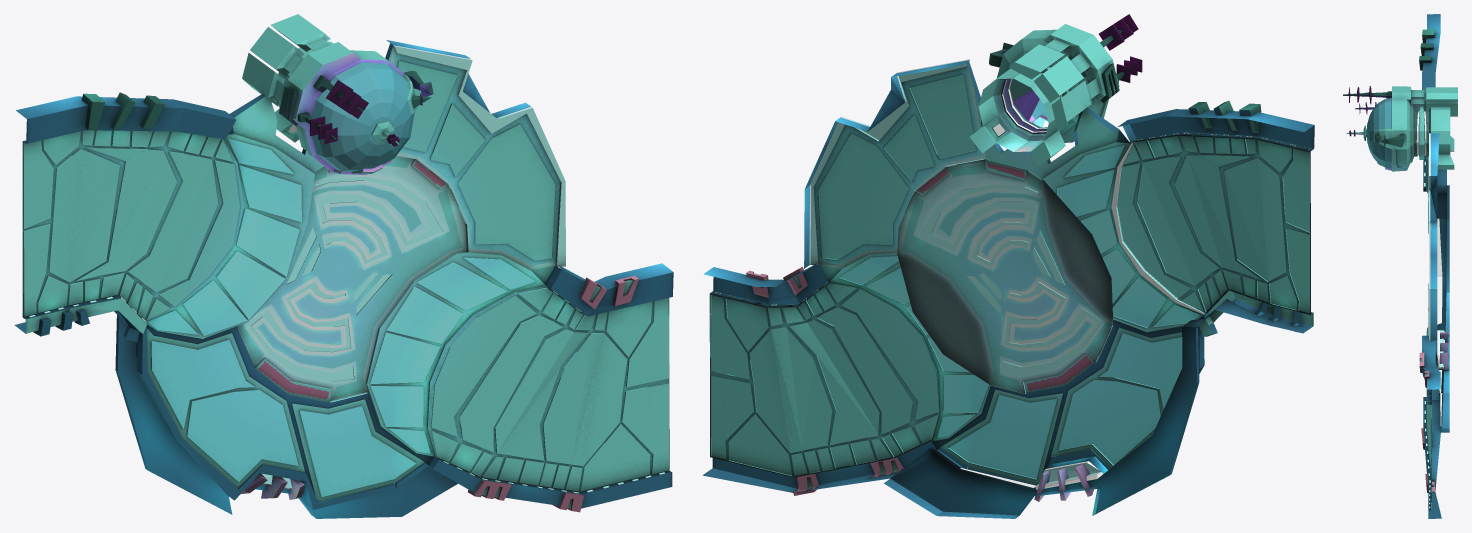
The model's file is ThugShip_Tile_Bay_04_M.fbx.
3 renders of one model, left to right at view 1: azimuth 30°, elevation 25°; view 2: azimuth 150°, elevation 25°; view 3: azimuth 270°, elevation 25°, orthographic. The views are drawn at different scales.
Visible parts, largest first — view 1: ThugShip_Tile_Bay_04, ThugShip_Tile_Tower_04, ThugShip_Tile_Dome_04_Tex, ThugShip_Tile_Bay_04_Glow_2; view 2: ThugShip_Tile_Bay_04, ThugShip_Tile_Tower_04, ThugShip_Tile_Bay_04_Glow_2, ThugShip_Tile_Bay_04_Glow; view 3: ThugShip_Tile_Bay_04, ThugShip_Tile_Tower_04, ThugShip_Tile_Dome_04_Tex, ThugShip_Tile_Bay_04_Glow, ThugShip_Tile_Bay_04_Glow_2, ThugShip_Tile_Tower_04_Glow.
Part boxes in pixels (x1=…): ThugShip_Tile_Bay_04: x1=14, y1=40, x2=673, y2=518; ThugShip_Tile_Tower_04: x1=242, y1=14, x2=433, y2=174; ThugShip_Tile_Dome_04_Tex: x1=312, y1=62, x2=414, y2=171; ThugShip_Tile_Bay_04_Glow_2: x1=29, y1=176, x2=665, y2=493; ThugShip_Tile_Bay_04: x1=702, y1=59, x2=1314, y2=518; ThugShip_Tile_Tower_04: x1=970, y1=14, x2=1142, y2=166; ThugShip_Tile_Bay_04_Glow_2: x1=715, y1=132, x2=1309, y2=485; ThugShip_Tile_Bay_04_Glow: x1=960, y1=143, x2=1204, y2=489; ThugShip_Tile_Bay_04: x1=1419, y1=14, x2=1449, y2=518; ThugShip_Tile_Tower_04: x1=1343, y1=86, x2=1457, y2=171; ThugShip_Tile_Dome_04_Tex: x1=1366, y1=98, x2=1391, y2=168; ThugShip_Tile_Bay_04_Glow: x1=1427, y1=191, x2=1444, y2=392; ThugShip_Tile_Bay_04_Glow_2: x1=1424, y1=157, x2=1443, y2=508; ThugShip_Tile_Tower_04_Glow: x1=1416, y1=111, x2=1426, y2=155.
Size of the model in its own units: 152 by 122 by 38.96.
7 materials, 4 textured.
